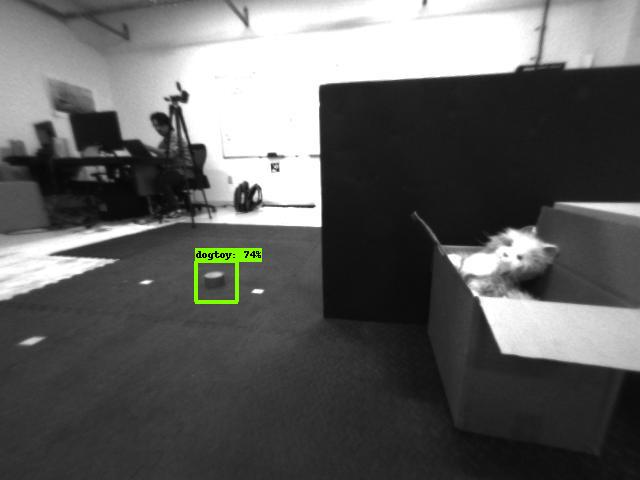dogtoy: (190, 263, 236, 299)
